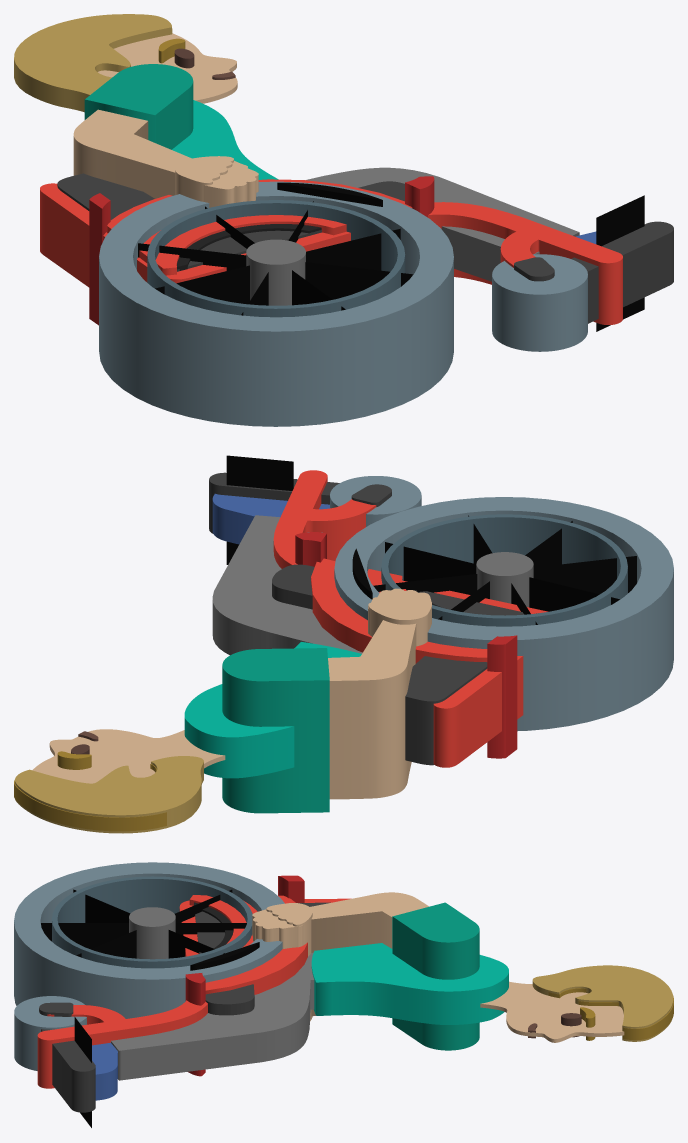
The model's file is emoji_u1f468_1f3fc_200d_1f9bd_200d_27a1.glb.
3 renders of one model, top to bottom at view 1: azimuth 30°, elevation 25°; view 2: azimuth 150°, elevation 25°; view 3: azimuth 270°, elevation 25°, orthographic. The views are drawn at different scales.
Parts seen in each view (by area): view 1: emoji_u1f468_1f3fc_200d_1f9bd_200d_27a1; view 2: emoji_u1f468_1f3fc_200d_1f9bd_200d_27a1; view 3: emoji_u1f468_1f3fc_200d_1f9bd_200d_27a1.
Part boxes in pixels (x1,y1,x2,y2): emoji_u1f468_1f3fc_200d_1f9bd_200d_27a1: [14, 14, 673, 426]; emoji_u1f468_1f3fc_200d_1f9bd_200d_27a1: [14, 455, 673, 833]; emoji_u1f468_1f3fc_200d_1f9bd_200d_27a1: [14, 862, 673, 1127].
Size of the model in its own units: 0.0222 by 0.0058 by 0.0321.
